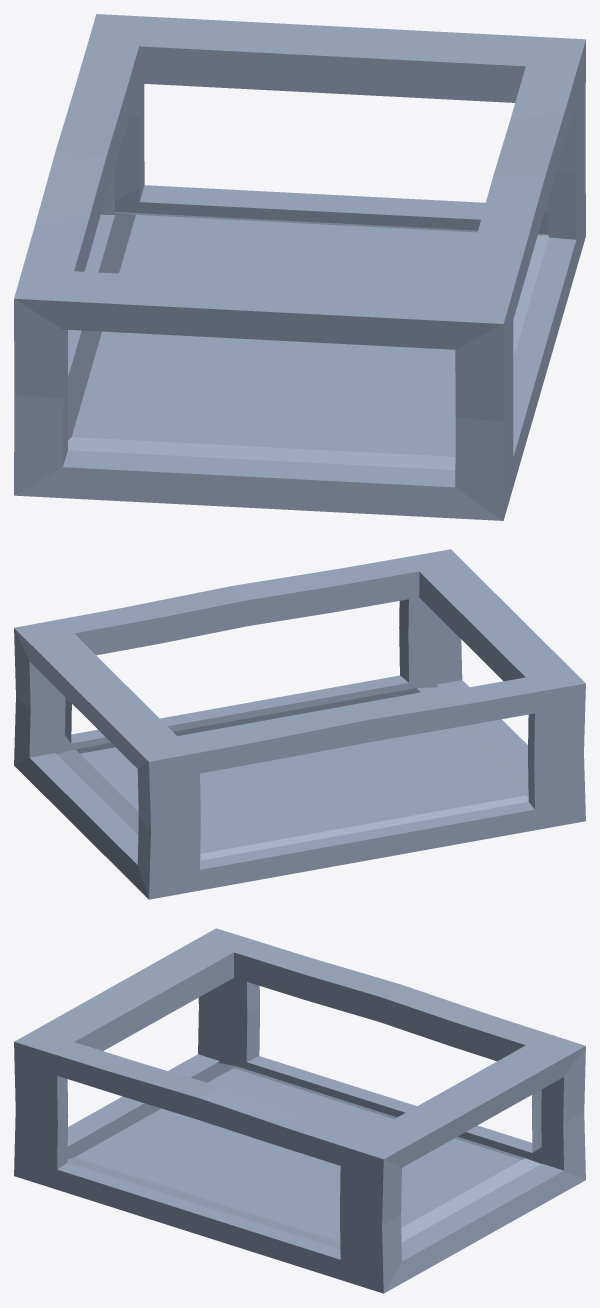
File: n2_chest_bottom_light_grey_0_lev2.003.glb
3 renders of one model, top to bottom at view 1: azimuth 30°, elevation 25°; view 2: azimuth 150°, elevation 25°; view 3: azimuth 270°, elevation 25°, orthographic. The views are drawn at different scales.
Visible parts, largest first — view 1: n2_chest_bottom_light_grey_0_lev2.003; view 2: n2_chest_bottom_light_grey_0_lev2.003; view 3: n2_chest_bottom_light_grey_0_lev2.003.
Part boxes in pixels (x1,y1,x2,y2): n2_chest_bottom_light_grey_0_lev2.003: (14,14,585,520); n2_chest_bottom_light_grey_0_lev2.003: (14,549,585,899); n2_chest_bottom_light_grey_0_lev2.003: (14,928,585,1293).
Size of the model in its own units: 2.13 by 0.589 by 2.23.
